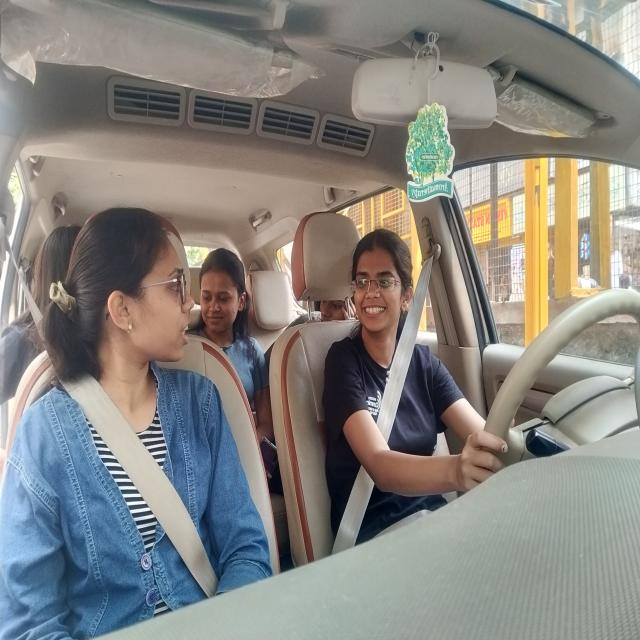LeftRight: (342, 224, 424, 364)
person: (66, 187, 202, 417), (192, 220, 256, 352)
talking: (173, 310, 197, 352), (357, 298, 393, 324)
